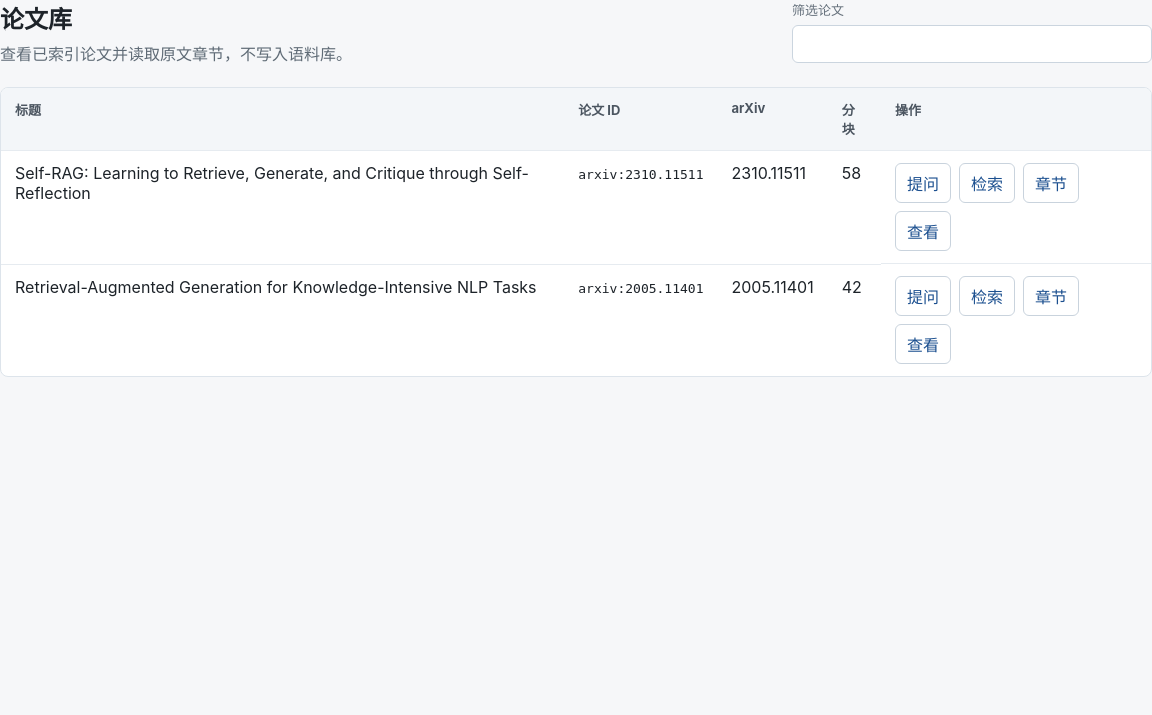
Scenario: Overview and Library pages › library opens paper detail
Click the button with aria-label "查看论文 self-rag" at (923, 231), box [895,211,951,251]
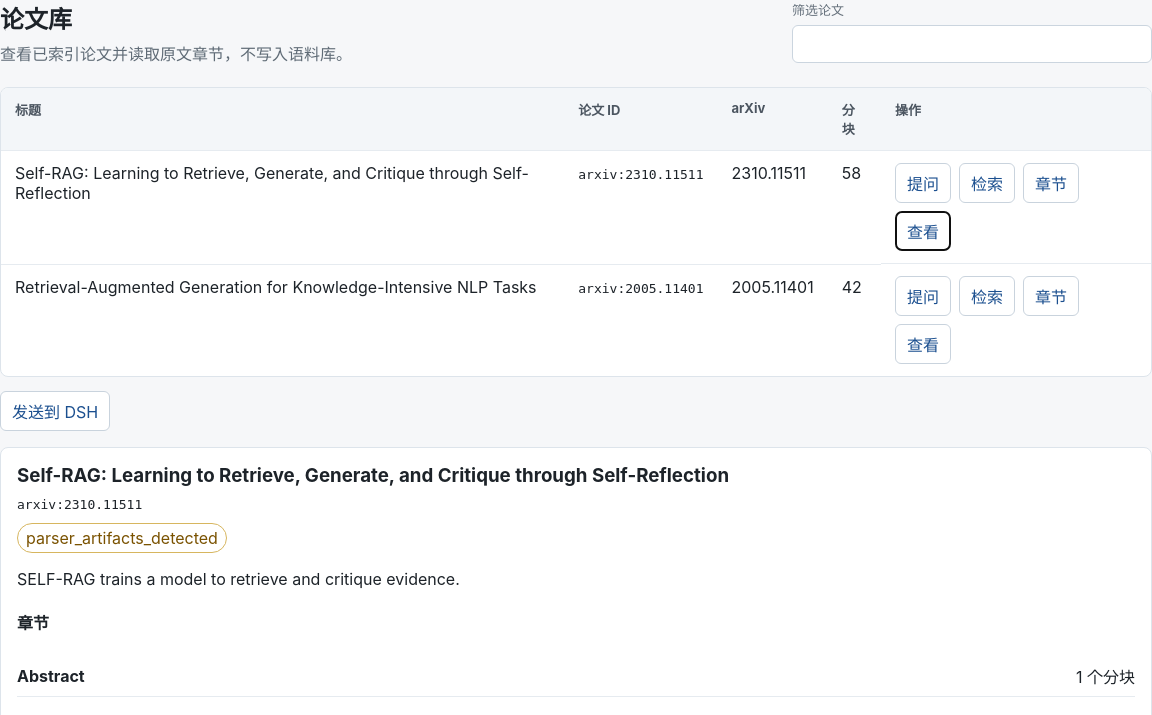
Expected: the heading "Self-RAG" is shown, [17,464,729,487]
Expected: the text "Abstract" is shown, [17,666,85,686]
